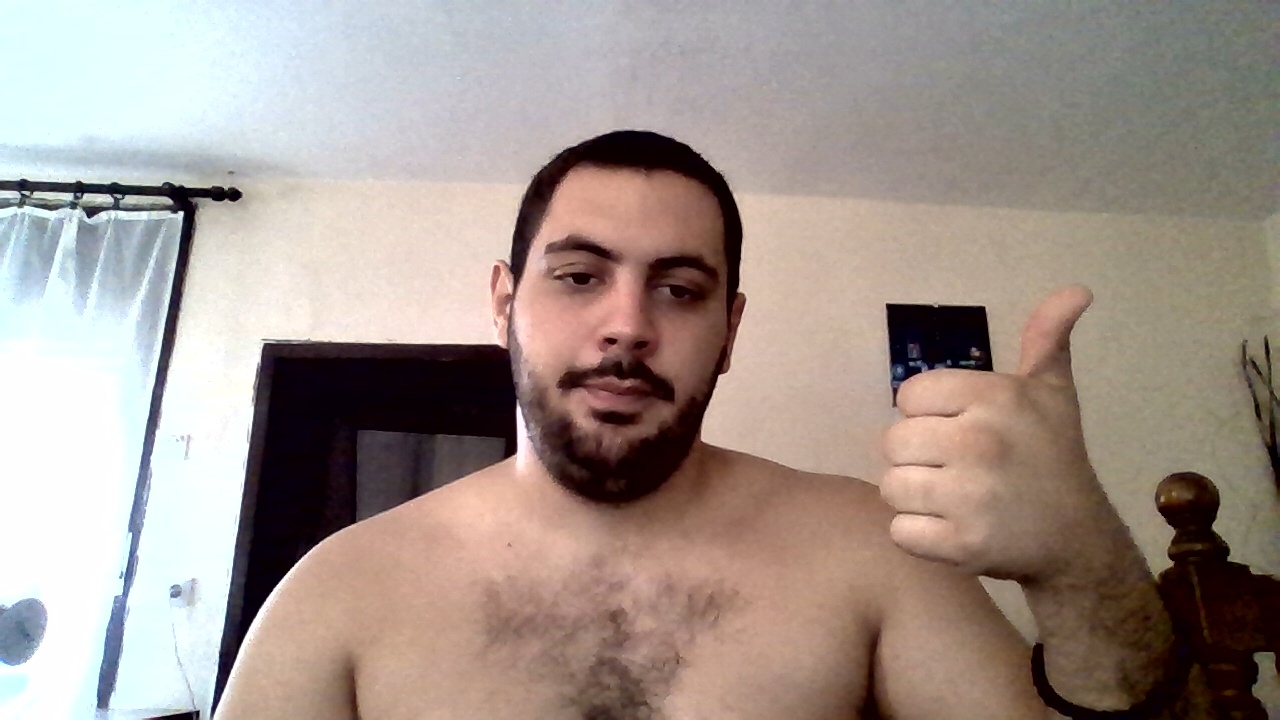like: (882, 286, 1093, 567)
